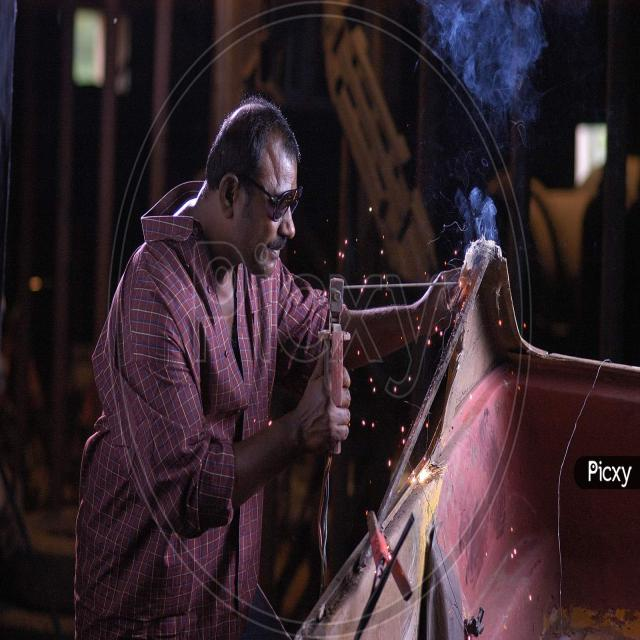without_helmet: (172, 97, 342, 323)
